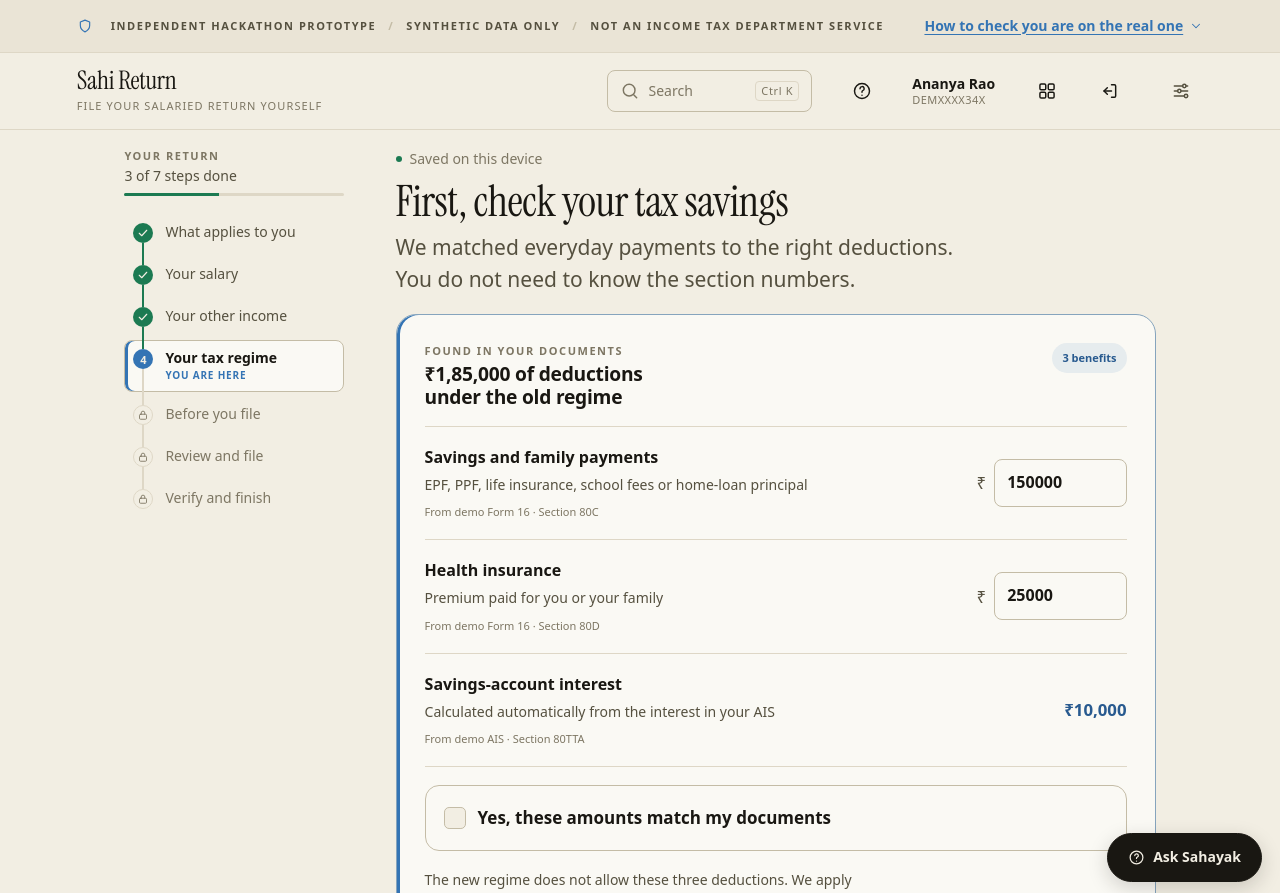
Sahi Return salaried filing journey › finds common tax benefits before comparing regimes
The image size is (1280, 893).
Expected: the heading "First, check your tax savings" is shown, top-left (396, 179), bottom-right (852, 223)
Expected: the heading "₹1,85,000 of deductions under the old regime" is shown, top-left (425, 360), bottom-right (643, 410)
Clear the number field named "Health insurance amount" at (1060, 596), box top-left (994, 572), bottom-right (1127, 620)
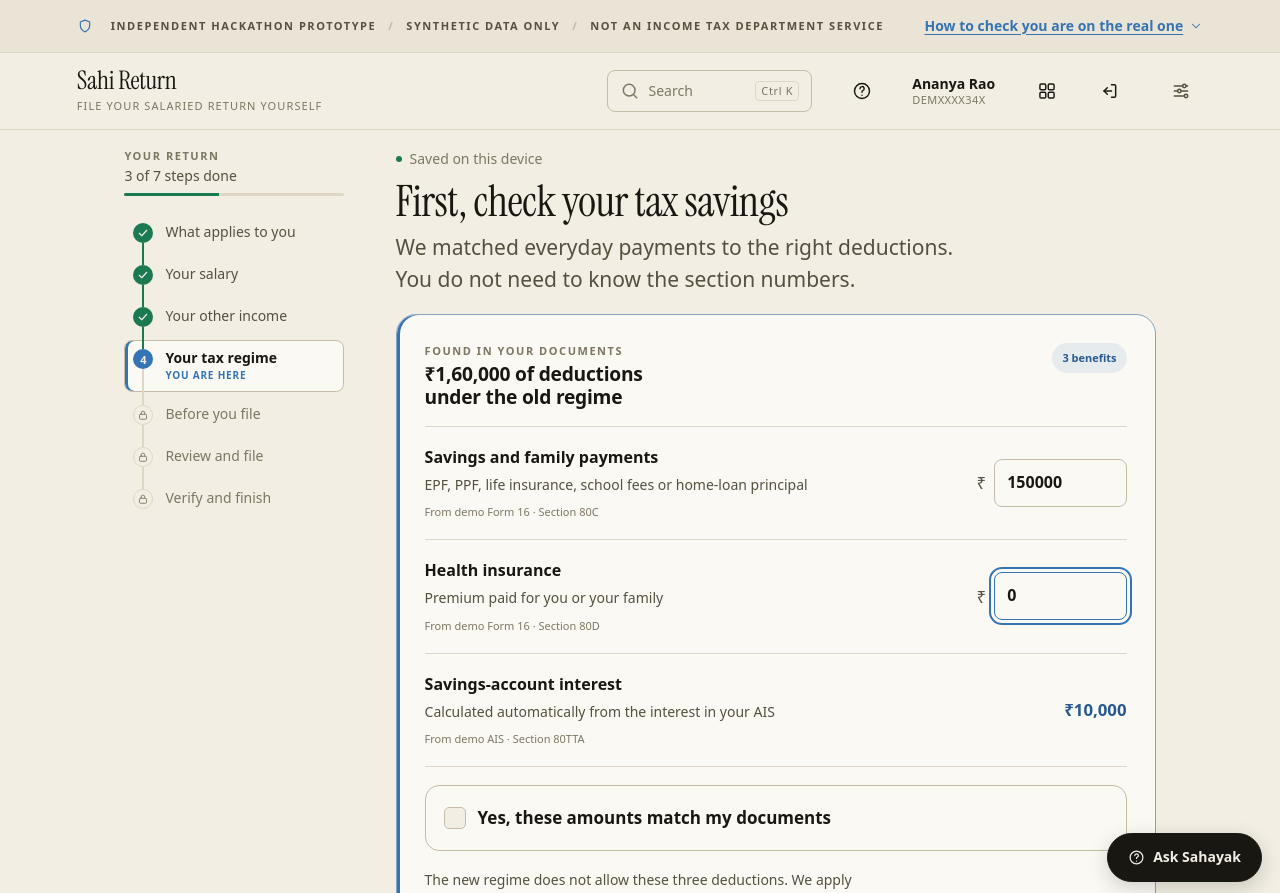
Expected: the checkbox labelled "Yes, these amounts match my documents" is not checked, top-left (444, 807), bottom-right (466, 829)
Now the heading "₹1,60,000 of deductions under the old regime" is shown, box top-left (425, 360), bottom-right (643, 410)
